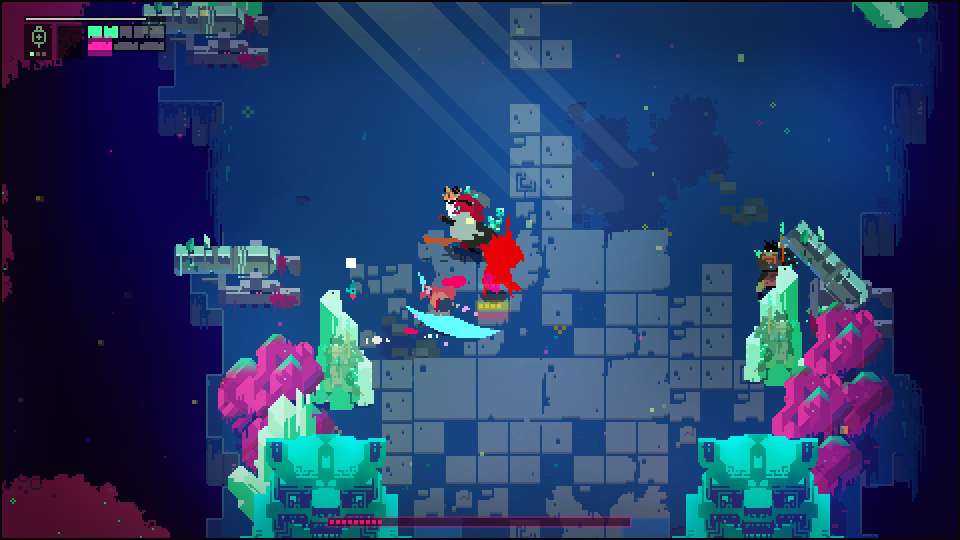hanged_man: (421, 184, 506, 258)
player: (406, 271, 477, 337)
